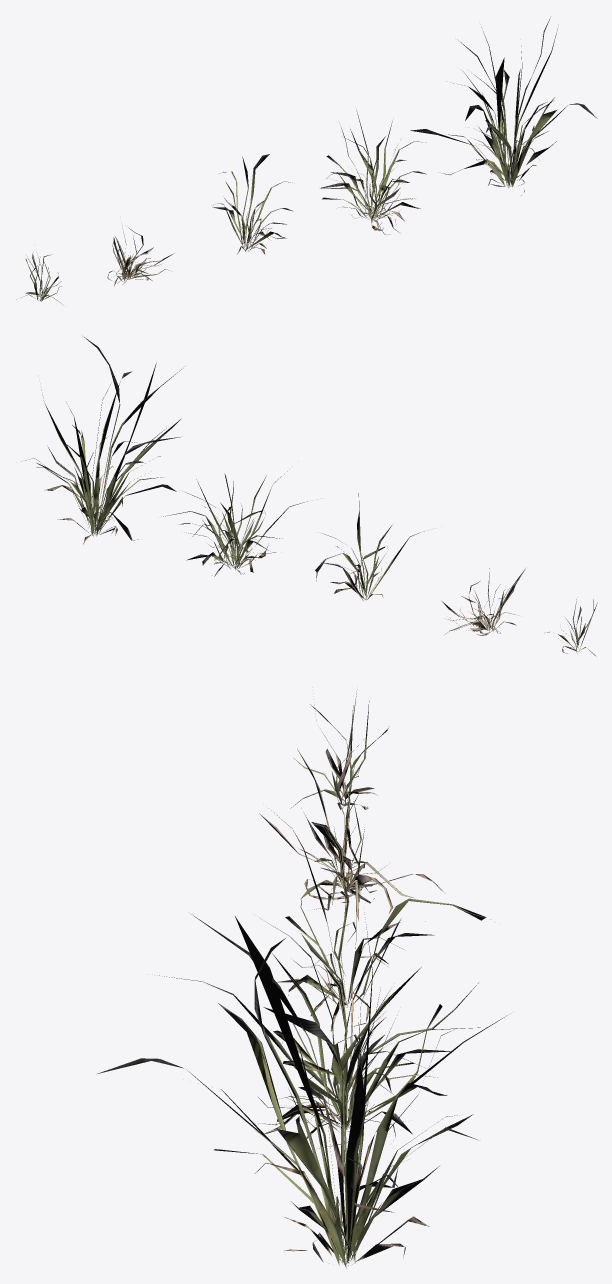
The model's file is grass_medium_02_lod1.glb.
The picture shows the model from 3 angles, top to bottom: view 1: azimuth 30°, elevation 25°; view 2: azimuth 150°, elevation 25°; view 3: azimuth 270°, elevation 25°; orthographic projection. The views are drawn at different scales.
Visible parts, largest first — view 1: grass_medium_02_e, grass_medium_02_d, grass_medium_02_c, grass_medium_02_b, grass_medium_02_a; view 2: grass_medium_02_e, grass_medium_02_d, grass_medium_02_c, grass_medium_02_b, grass_medium_02_a; view 3: grass_medium_02_e, grass_medium_02_d, grass_medium_02_c, grass_medium_02_b, grass_medium_02_a.
Part boxes in pixels (x1,y1,x2,y2): grass_medium_02_e: (410, 18, 597, 195); grass_medium_02_d: (320, 110, 426, 234); grass_medium_02_c: (212, 154, 293, 254); grass_medium_02_b: (107, 222, 174, 286); grass_medium_02_a: (16, 252, 62, 304); grass_medium_02_e: (25, 337, 181, 544); grass_medium_02_d: (163, 471, 307, 576); grass_medium_02_c: (315, 493, 424, 600); grass_medium_02_b: (441, 568, 525, 635); grass_medium_02_a: (547, 597, 597, 656); grass_medium_02_e: (97, 912, 507, 1268); grass_medium_02_d: (159, 918, 486, 1148); grass_medium_02_c: (271, 810, 486, 1031); grass_medium_02_b: (259, 749, 445, 920); grass_medium_02_a: (290, 689, 389, 809).
Size of the model in its own units: 1.29 by 0.4038 by 0.4318.
1 material, 1 textured.
